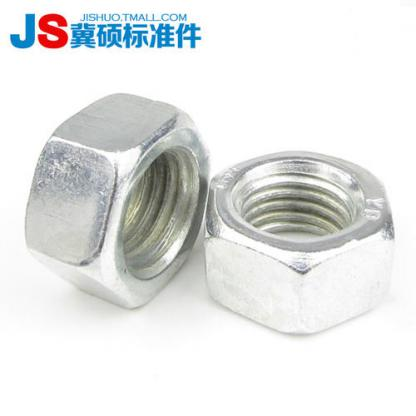FOD: (23, 91, 212, 313), (202, 149, 398, 339)
